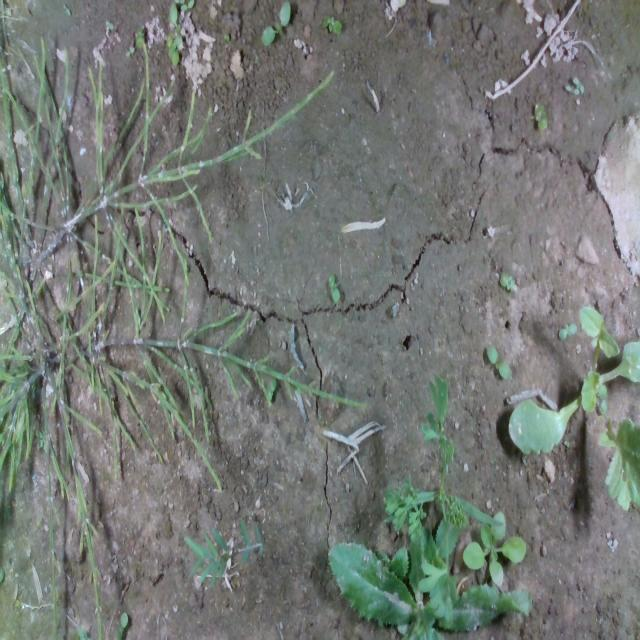weed: (484, 342, 510, 382), (500, 268, 530, 295), (532, 99, 550, 135), (325, 269, 343, 303), (559, 317, 577, 346)
